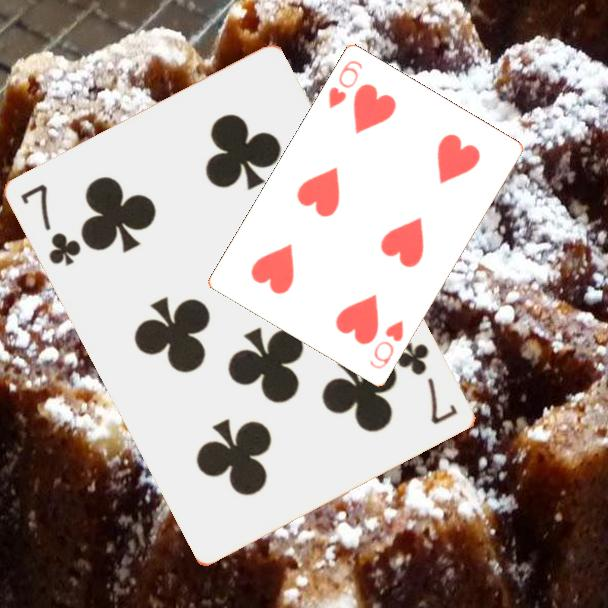c07: (393, 338, 461, 428), (18, 181, 85, 270)
h06: (366, 317, 407, 373), (325, 57, 366, 112)
